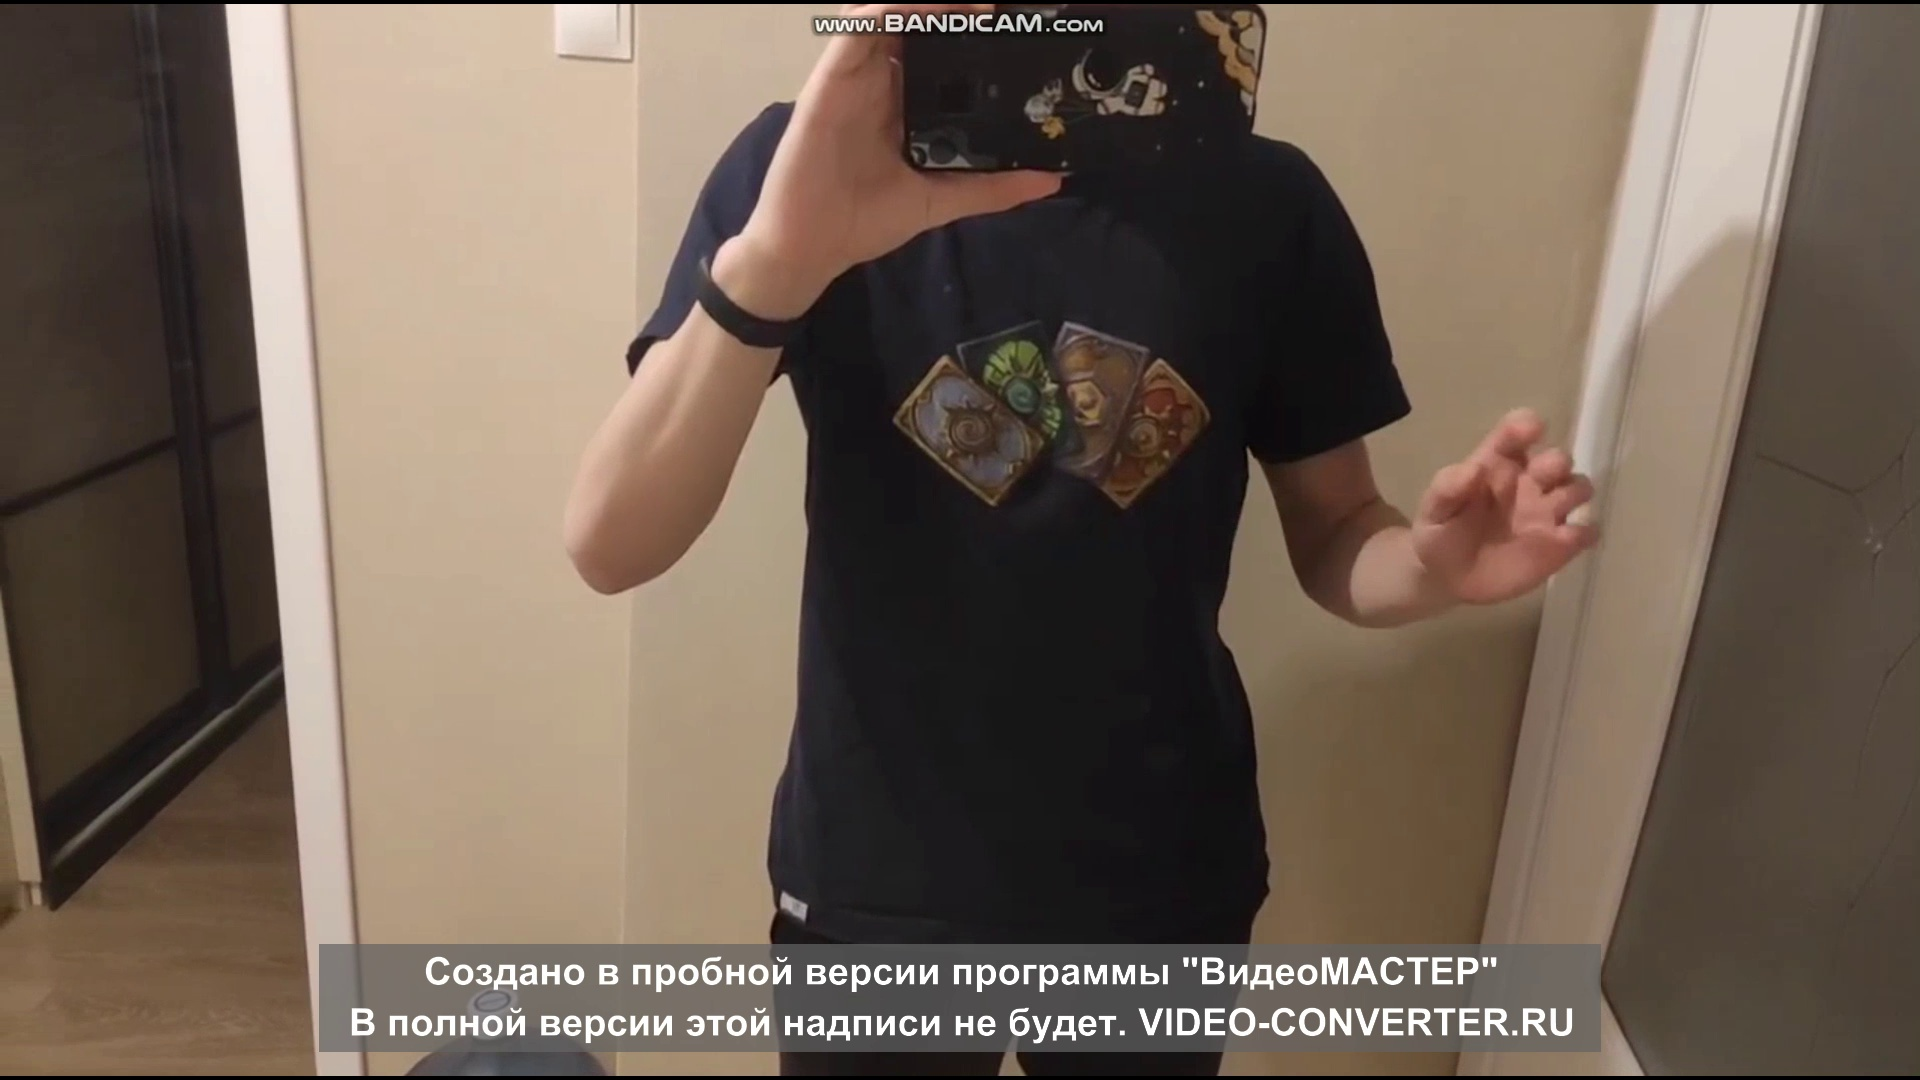Ладонь: (1411, 407, 1604, 605)
